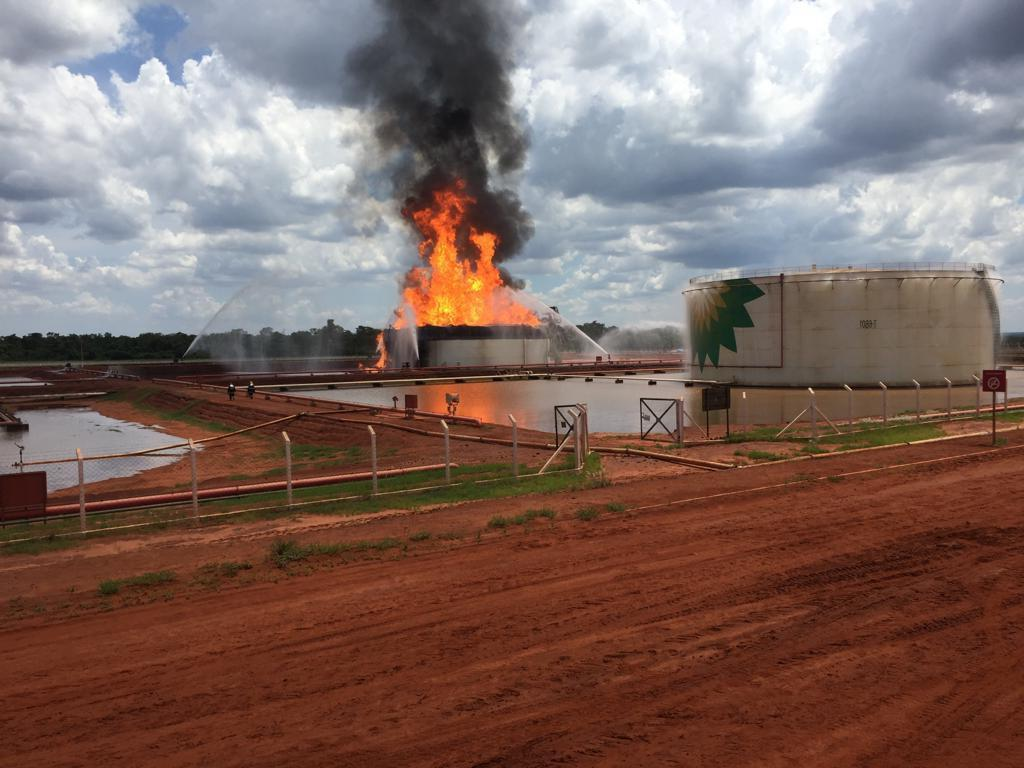Fire: (388, 196, 543, 333), (370, 336, 388, 369)
